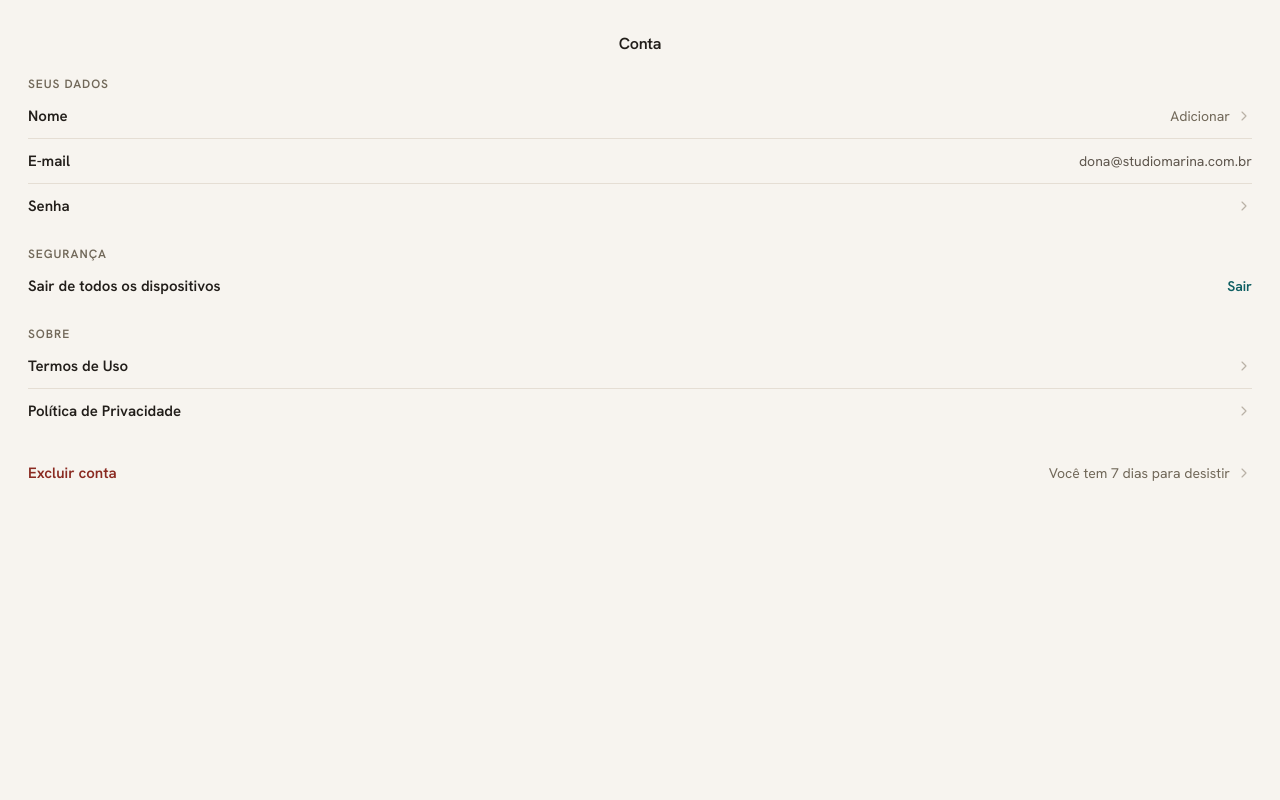
Scenario: Conta mostra e edita o nome (Goal067) › com nome nulo, mostra o convite a informá-lo
Click the button "Nome Adicionar" at (48, 116), box [28, 94, 1252, 139]
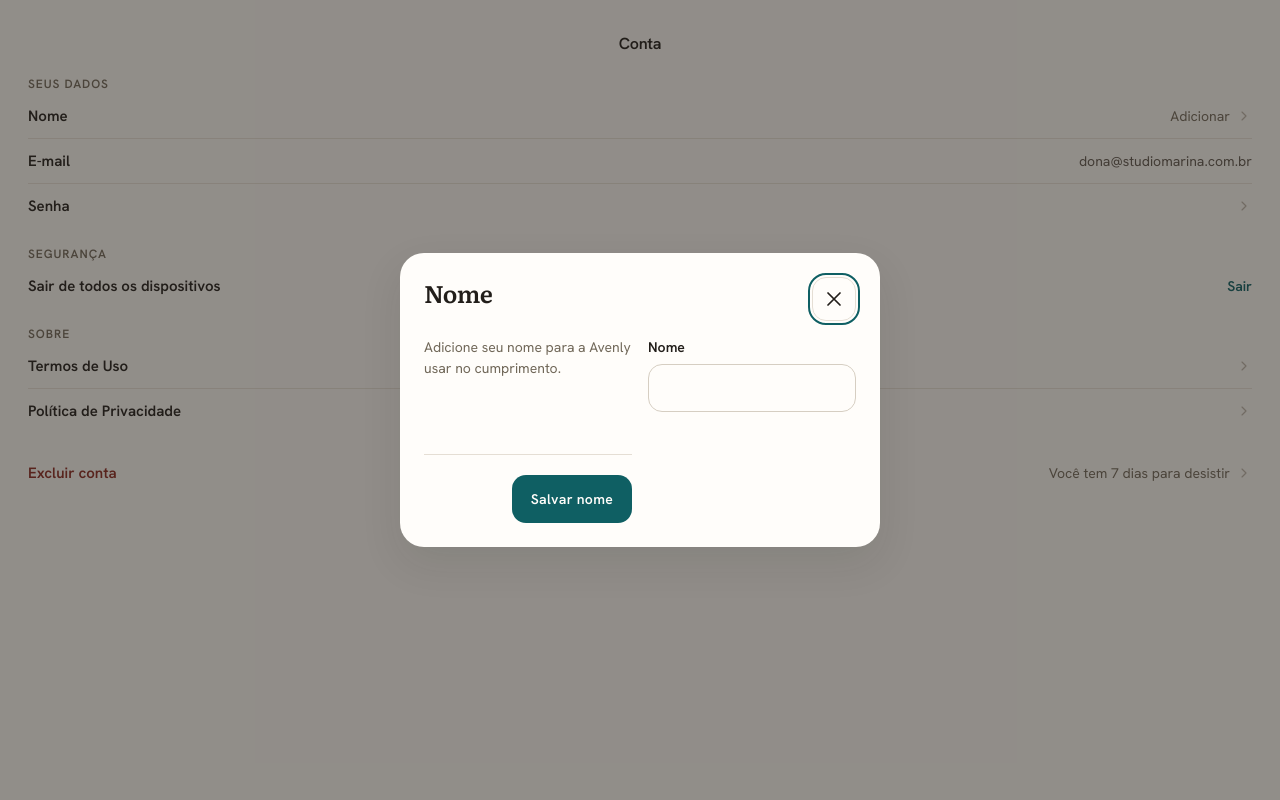
Expected: the field labelled "Nome" is empty, [648, 364, 856, 412]
Expected: the text "Adicione seu nome para a Avenly usar no cumprimento." is shown, [424, 337, 632, 379]
